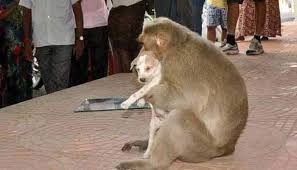monkey: (102, 14, 254, 167)
